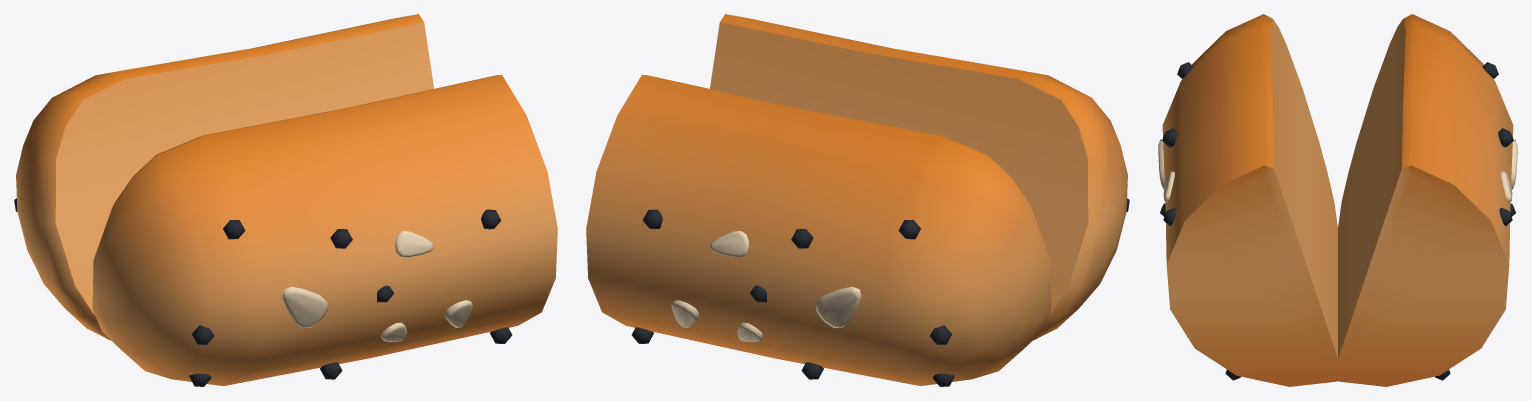
Rendered from HotDog_bun_with_seeds_half.001.fbx.
The picture shows the model from 3 angles, left to right: view 1: azimuth 30°, elevation 25°; view 2: azimuth 150°, elevation 25°; view 3: azimuth 270°, elevation 25°; orthographic projection. The views are drawn at different scales.
Parts seen in each view (by area): view 1: HotDog_bun_with_seeds_half.001; view 2: HotDog_bun_with_seeds_half.001; view 3: HotDog_bun_with_seeds_half.001.
Part boxes in pixels (<box>): HotDog_bun_with_seeds_half.001: <box>14,14,557,386</box>; HotDog_bun_with_seeds_half.001: <box>586,14,1129,386</box>; HotDog_bun_with_seeds_half.001: <box>1158,14,1517,386</box>.
Bounding box in the file's own units: 76.52 × 69.2 × 49.72.
